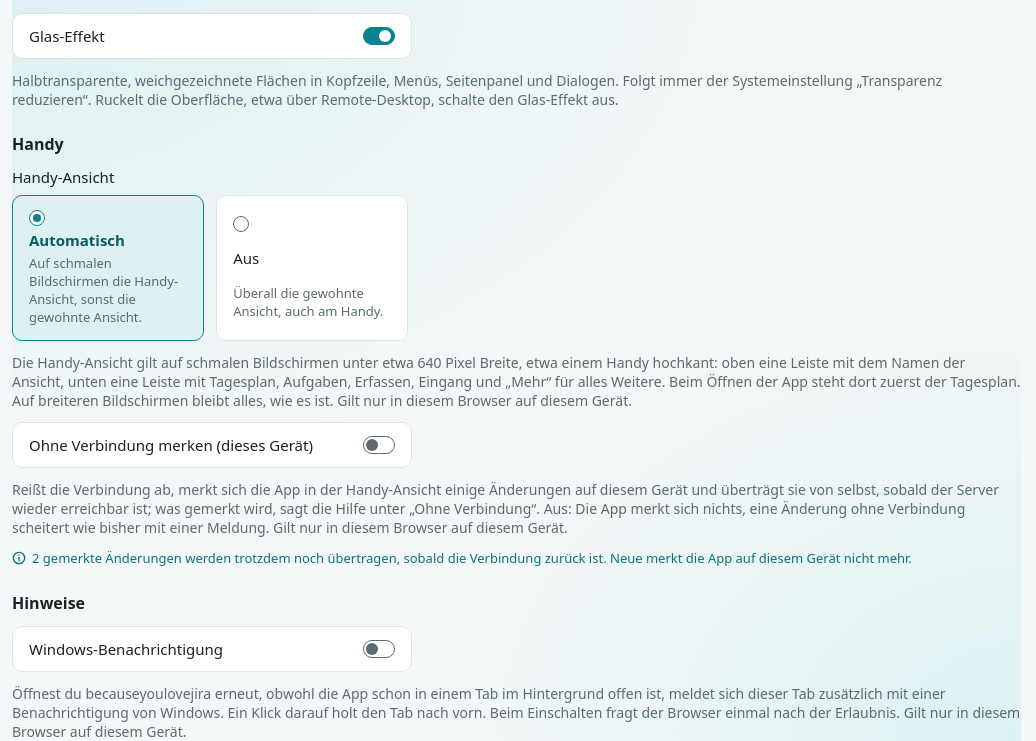
Test case: appearance page: phone view (MO-1a, Einschalten) › says that kept changes are still sent once keeping is off
(page scrolled)
expect the text "2 gemerkte Änderungen werden trotzdem noch übertragen, sobald die Verbindung zurück ist. Neue merkt die App auf diesem G" is shown: met, box 32,549 -> 912,567
Step 1. Click the switch labelled "Ohne Verbindung merken (dieses Gerät)" → (379,445), box 363,436 -> 395,454
(page scrolled)
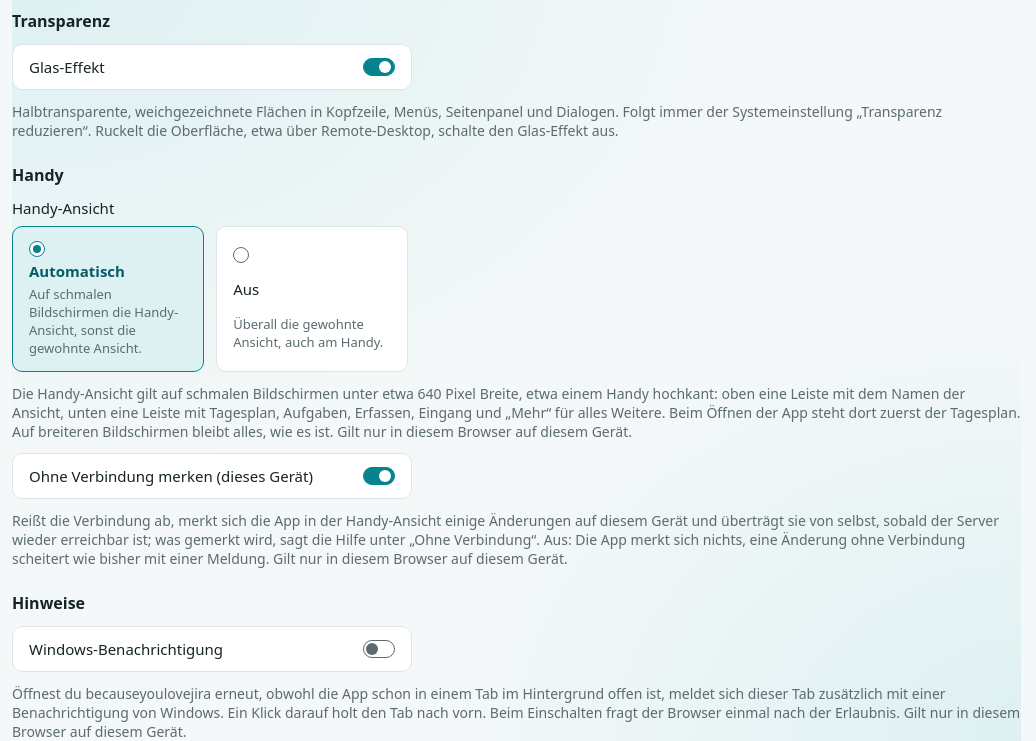
expect the text "trotzdem noch übertragen" is gone: met
